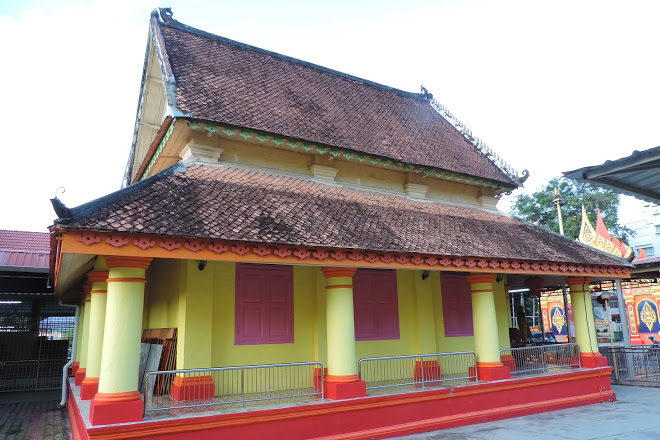Buddhist Temple: (51, 13, 589, 394)
